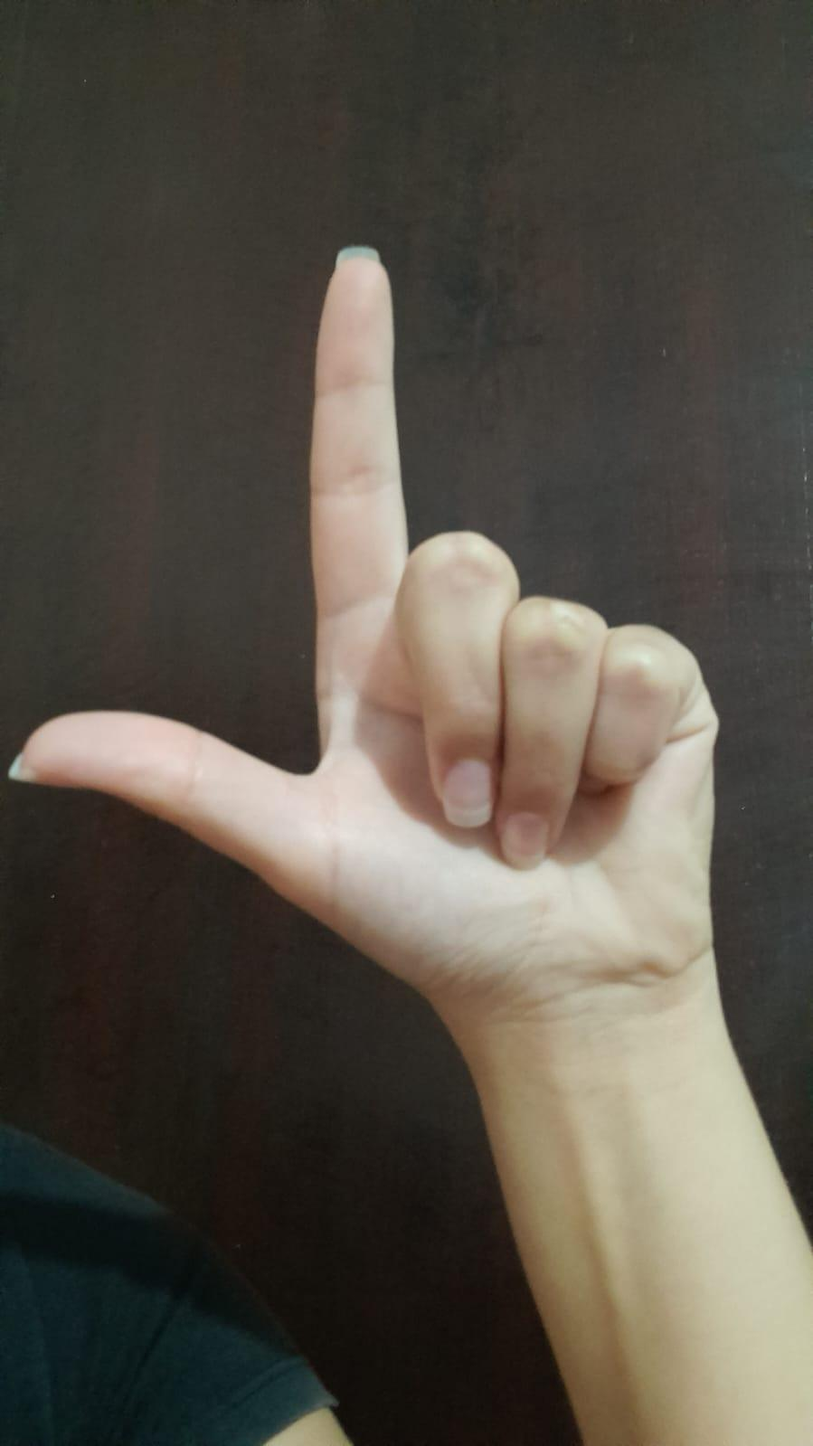L: (0, 231, 787, 1004)
